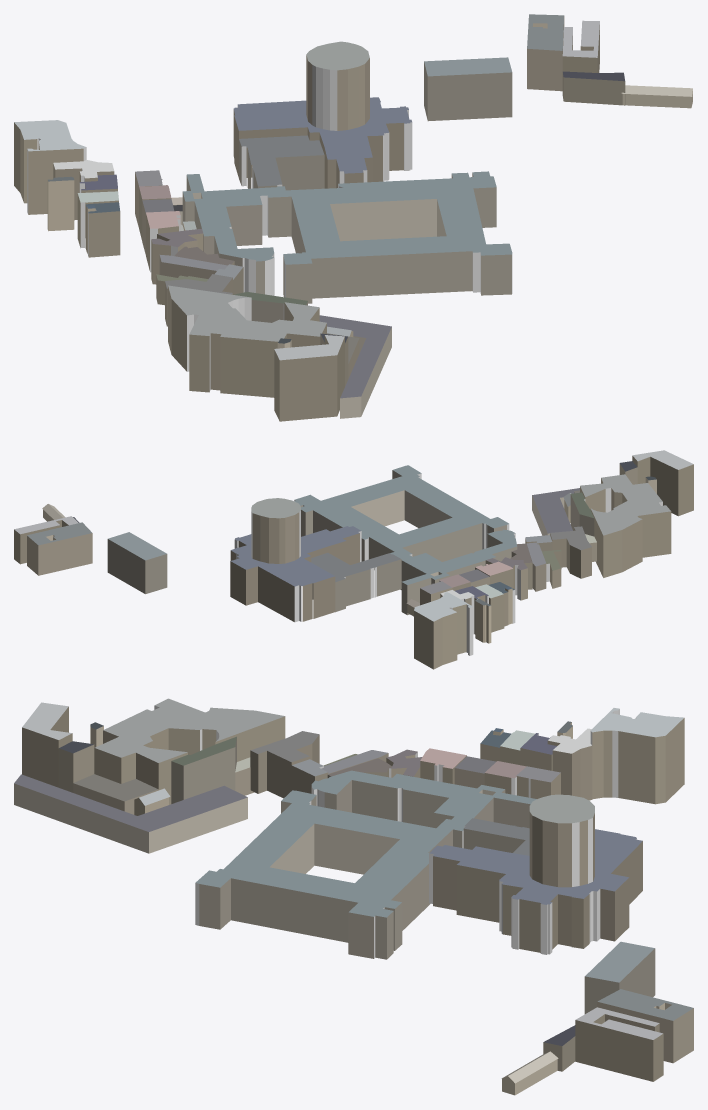
3 renders of one model, top to bottom at view 1: azimuth 30°, elevation 25°; view 2: azimuth 150°, elevation 25°; view 3: azimuth 270°, elevation 25°, orthographic. The views are drawn at different scales.
Parts seen in each view (by area): view 1: tuile; view 2: tuile; view 3: tuile.
Boxes of the visible parts, bbox=[...] form: tuile: bbox=[14, 14, 692, 421]; tuile: bbox=[14, 450, 693, 669]; tuile: bbox=[14, 698, 693, 1095].
Size of the model in its own units: 283 by 46.7 by 237.
